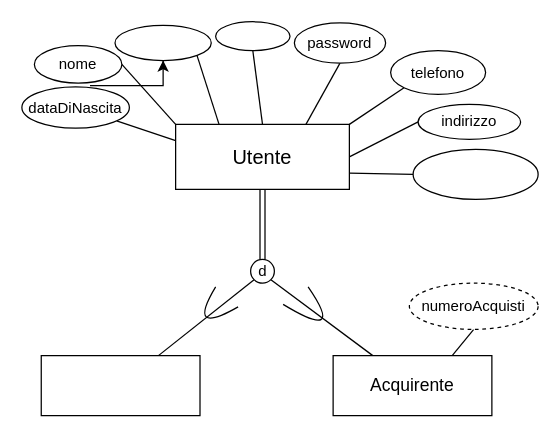
The diagram is 560 pixels wide and 439 high, and some of its shapes have lost their labels. The centre of each missing label's shape, as x and y in pixels:
codiceFiscale: the point at 475,173
cognome: the point at 162,42
Inserzionista: the point at 120,385
mail: the point at 252,35
